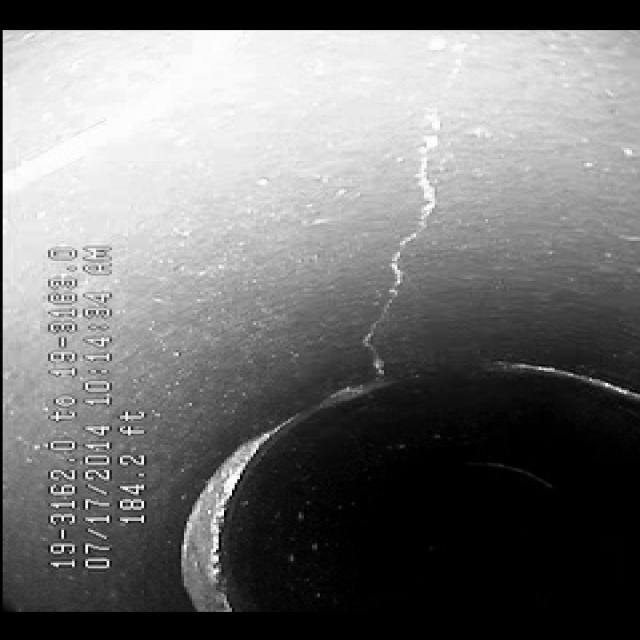Crack: (330, 59, 480, 360)
